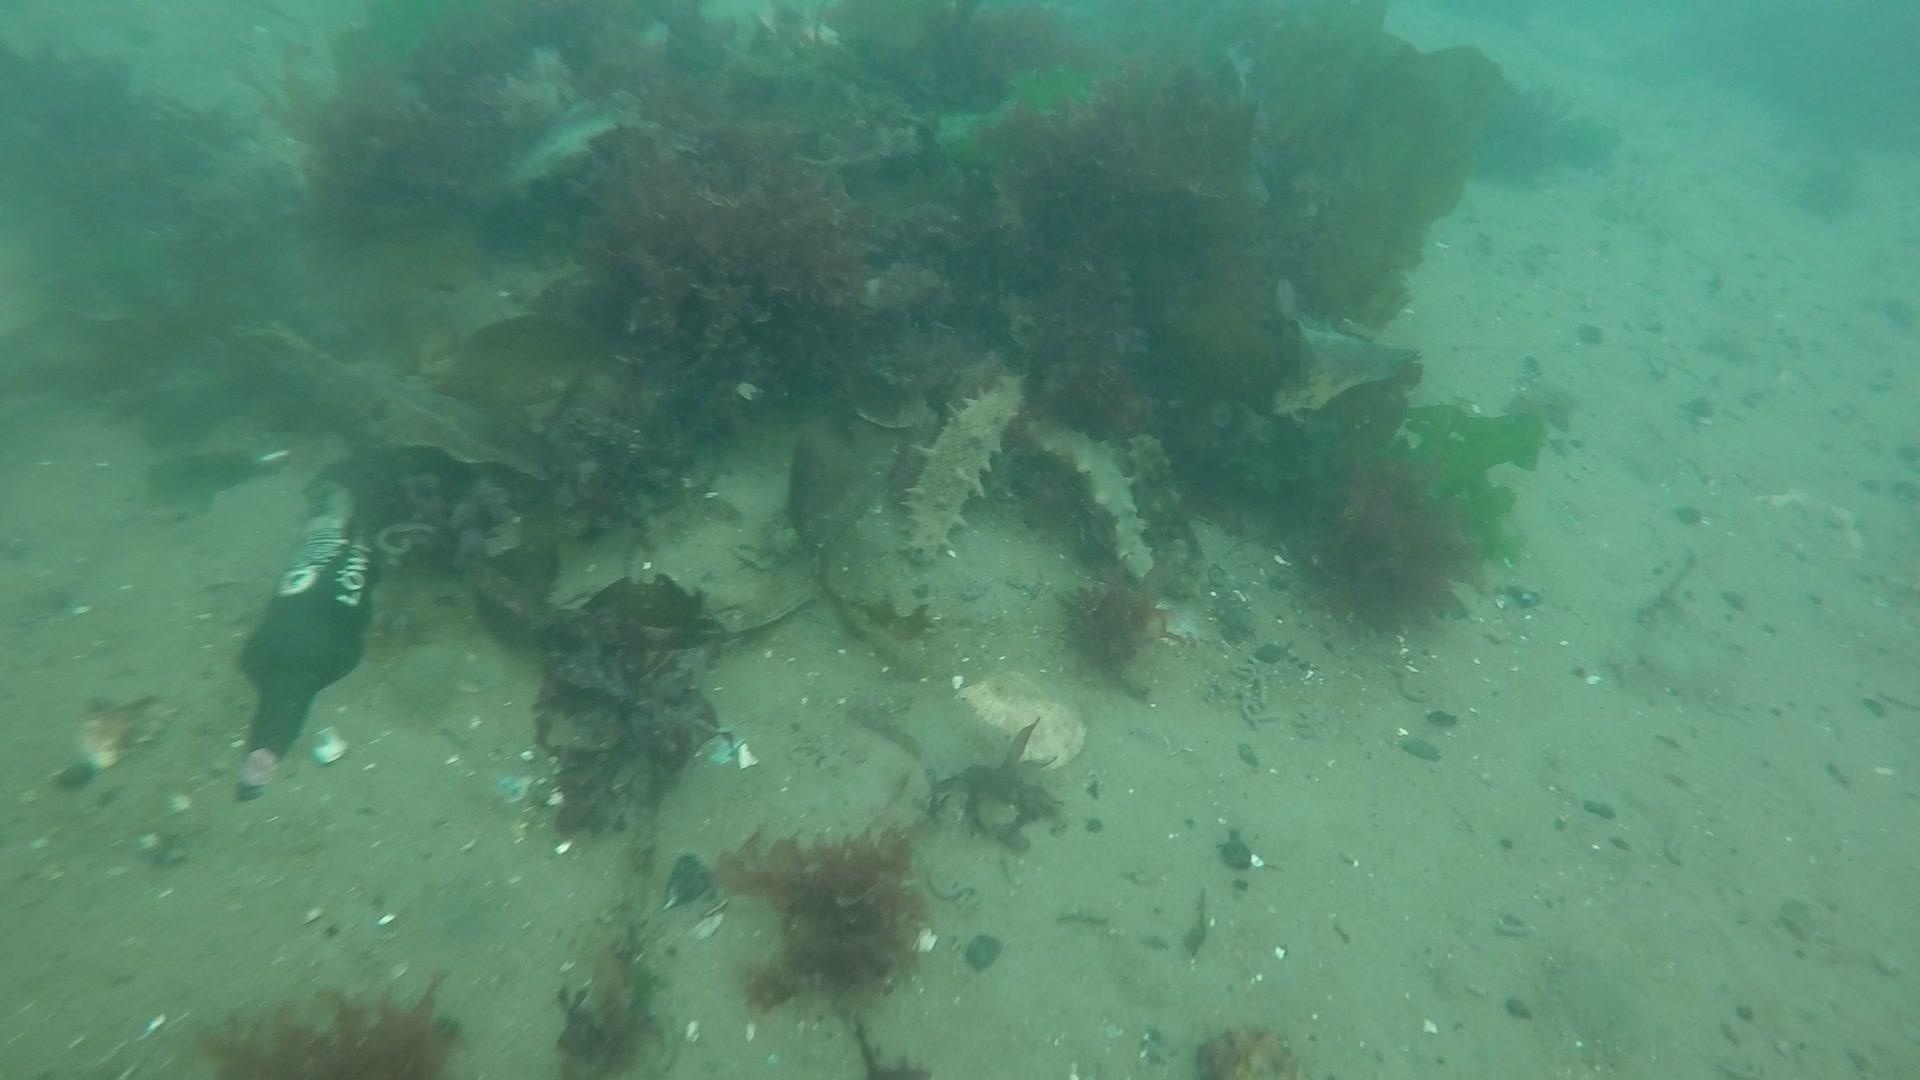holothurian: (891, 365, 1033, 568), (1039, 415, 1156, 582), (1106, 425, 1196, 574)
starfish: (934, 670, 1085, 770)
